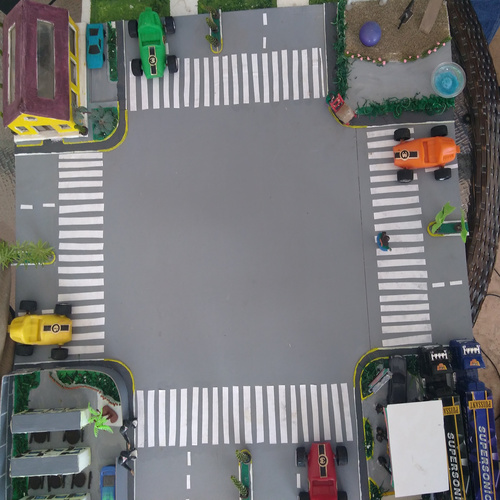amarillo: (8, 300, 73, 359)
naranja: (388, 124, 460, 181)
rojo: (296, 441, 346, 500)
verde: (127, 6, 180, 81)
